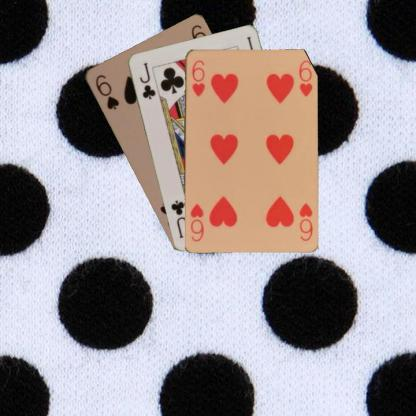6h: (296, 201, 314, 242), (188, 58, 206, 98)
6s: (93, 72, 120, 111)
Jc: (136, 60, 157, 100)
